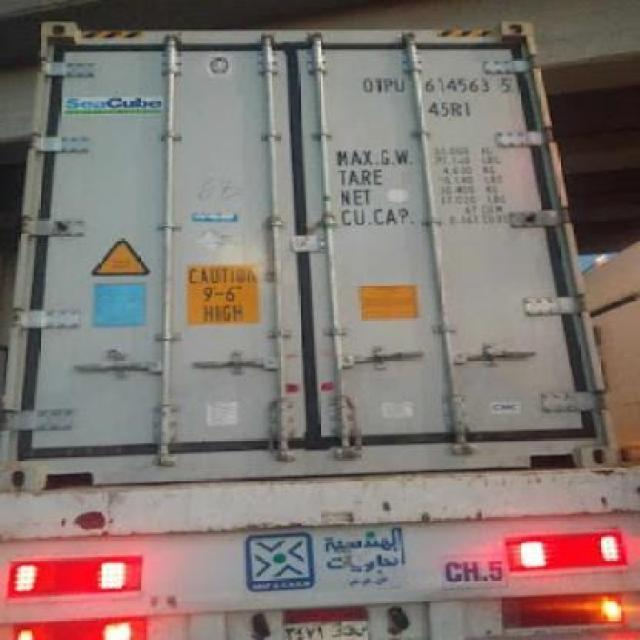ISO: (426, 99, 474, 119)
container_number: (360, 76, 513, 96)
